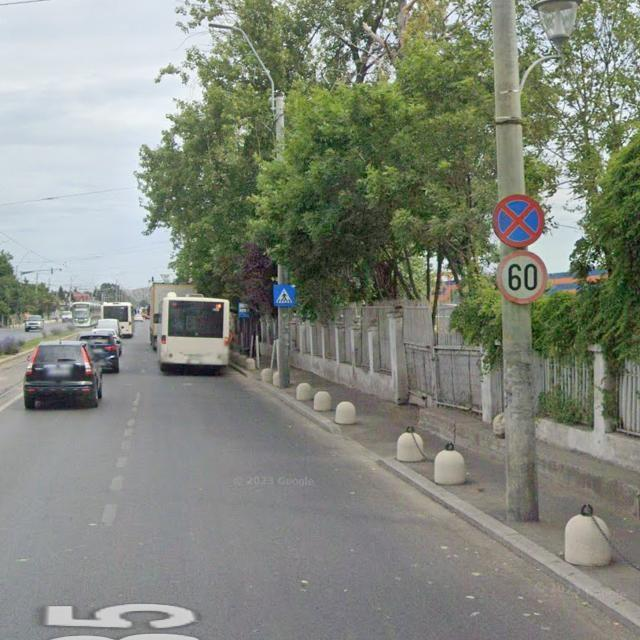forb_speed_over_60: (499, 251, 546, 306)
forb_waiting: (495, 196, 546, 251)
info_crosswalk: (272, 282, 299, 309)
